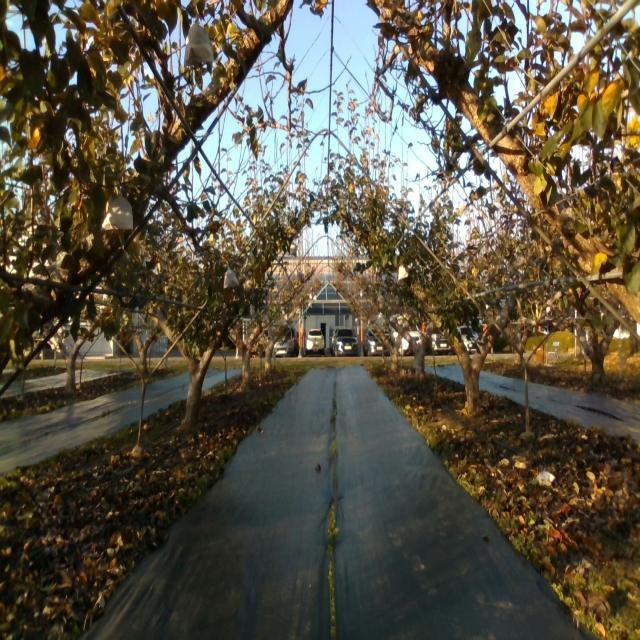pearbags: (183, 24, 214, 65), (102, 196, 134, 229), (224, 269, 240, 288)
